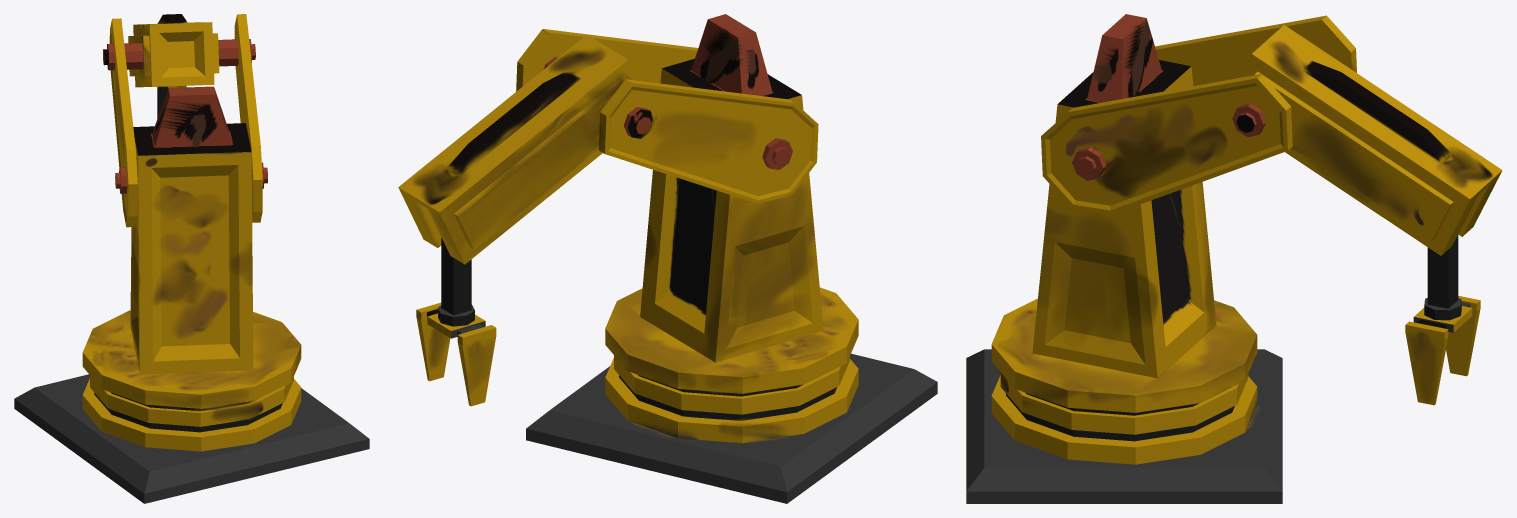
File: Crane.fbx
3 renders of one model, left to right at view 1: azimuth 30°, elevation 25°; view 2: azimuth 150°, elevation 25°; view 3: azimuth 270°, elevation 25°, orthographic. The views are drawn at different scales.
Parts seen in each view (by area): view 1: Crane; view 2: Crane; view 3: Crane.
Part boxes in pixels (x1,y1,x2,y2): Crane: (14, 14, 369, 503); Crane: (398, 14, 937, 503); Crane: (966, 14, 1502, 503).
Bounding box in the file's own units: 882 × 1143 × 1303.
Materials: 1 (1 with a texture image).
